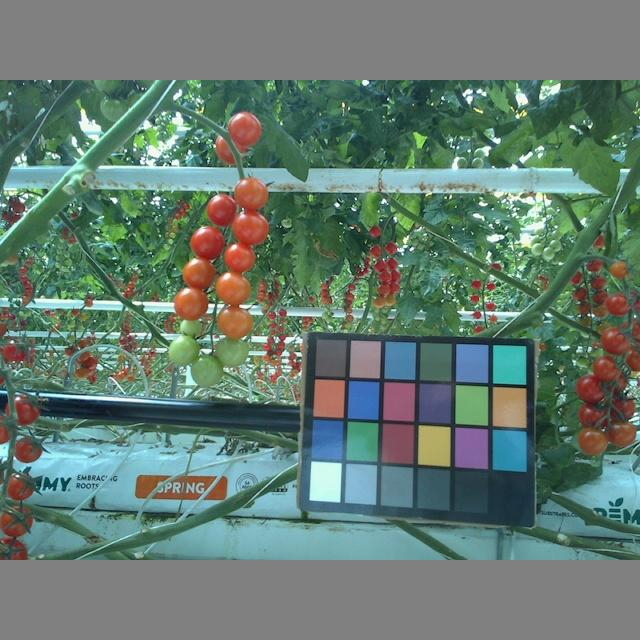green: (211, 336, 249, 368), (167, 333, 201, 368), (190, 352, 222, 389), (177, 316, 204, 340)
pink: (232, 174, 270, 211), (232, 209, 270, 245), (215, 305, 253, 339), (171, 286, 211, 318), (228, 110, 263, 146), (213, 130, 249, 165), (215, 271, 250, 307), (221, 240, 256, 274), (183, 255, 216, 289), (604, 419, 638, 447), (578, 426, 607, 454), (608, 293, 635, 316), (609, 259, 630, 278)
red: (189, 223, 225, 259), (4, 391, 39, 428), (1, 506, 35, 537), (1, 337, 31, 371), (573, 373, 608, 402), (9, 435, 43, 464), (208, 195, 239, 226), (601, 326, 632, 357), (577, 399, 609, 429), (4, 471, 36, 500), (590, 357, 618, 380)
